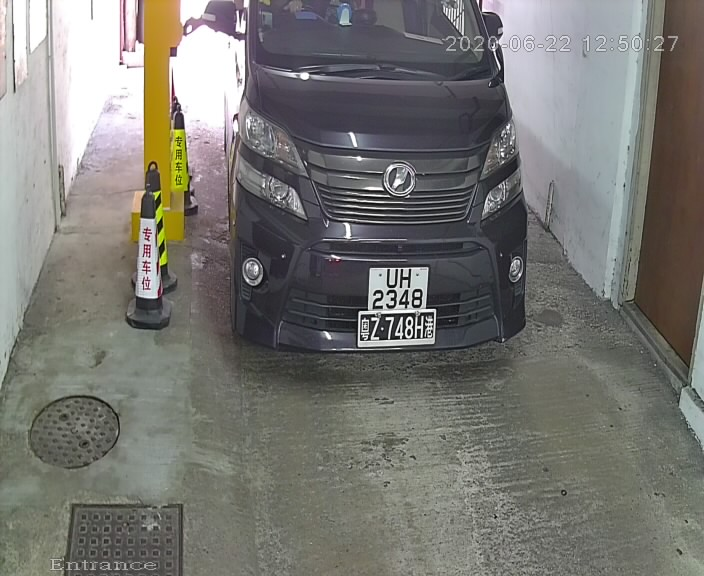privatecar: (173, 1, 545, 383)
